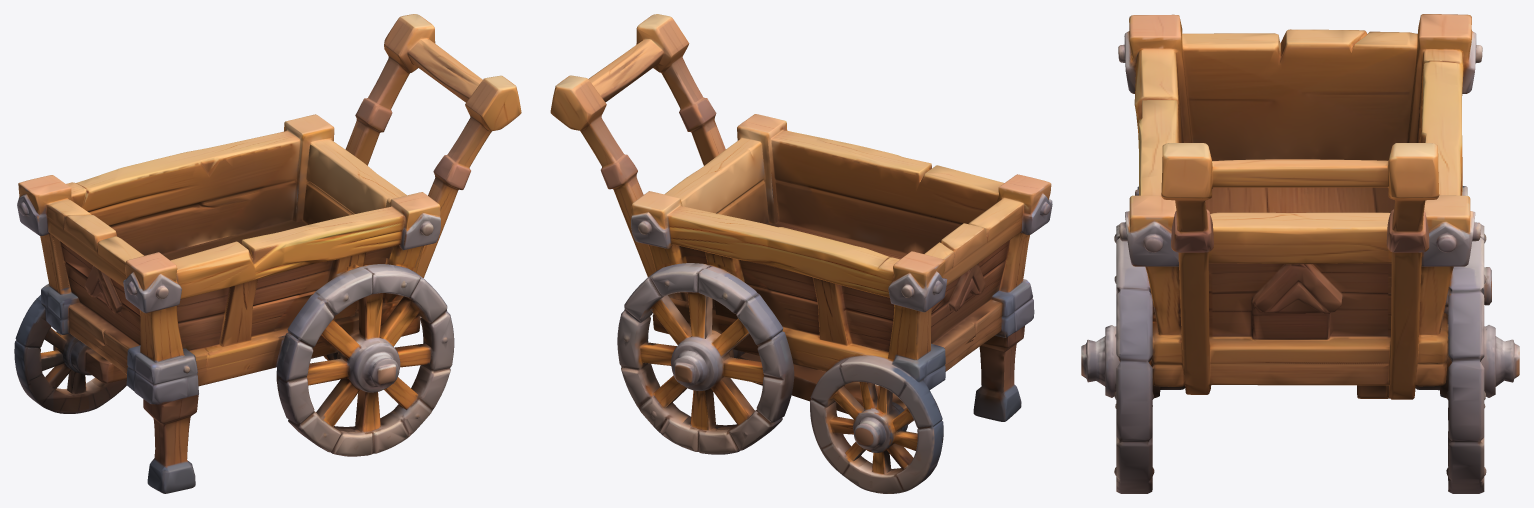
File: cart.glb
3 renders of one model, left to right at view 1: azimuth 30°, elevation 25°; view 2: azimuth 150°, elevation 25°; view 3: azimuth 270°, elevation 25°, orthographic. The views are drawn at different scales.
Parts seen in each view (by area): view 1: node_0; view 2: node_0; view 3: node_0.
Boxes of the visible parts, x1,y1,x2,y2 form: node_0: (14, 14, 521, 493); node_0: (550, 14, 1052, 493); node_0: (1081, 14, 1519, 493).
Size of the model in its own units: 0.9137 by 0.7074 by 0.6426.
Materials: 1 (1 with a texture image).
